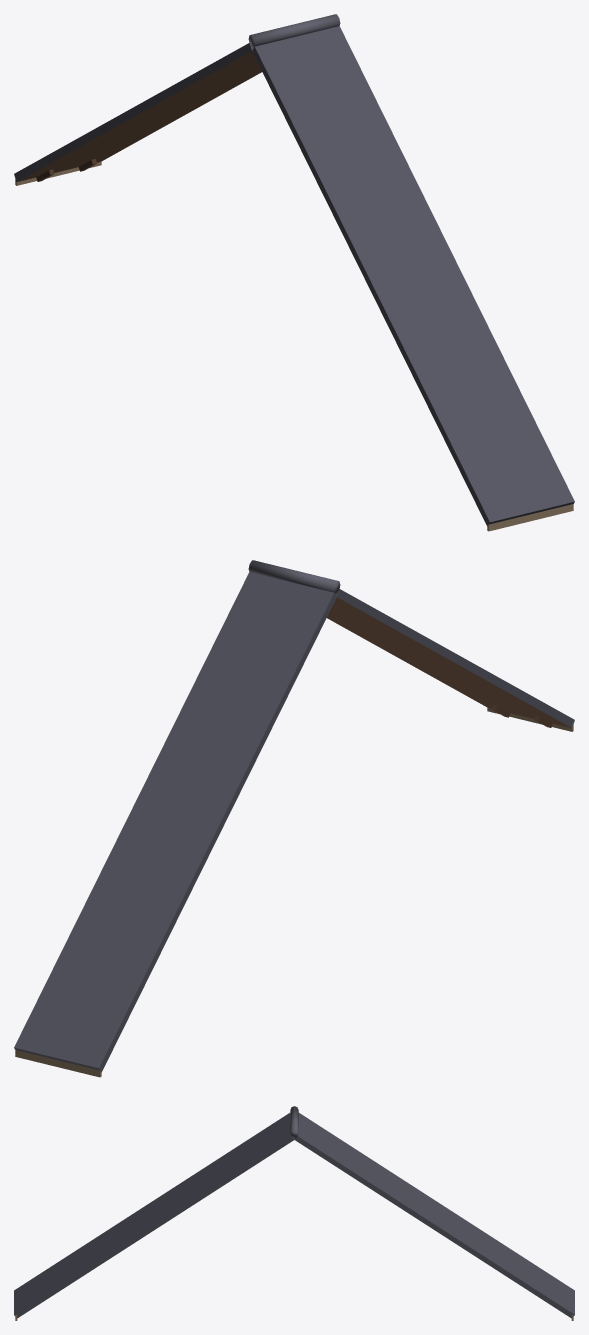
Rendered from kit_clapboard_slate_w9.glb.
3 views of the same model, one above another, from view 1: azimuth 30°, elevation 25°; view 2: azimuth 150°, elevation 25°; view 3: azimuth 270°, elevation 25° (orthographic). The views are drawn at different scales.
Parts seen in each view (by area): view 1: kit_clapboard_slate_w9; view 2: kit_clapboard_slate_w9; view 3: kit_clapboard_slate_w9.
Part boxes in pixels (x1,y1,x2,y2): kit_clapboard_slate_w9: [14, 14, 574, 531]; kit_clapboard_slate_w9: [14, 560, 574, 1077]; kit_clapboard_slate_w9: [14, 1106, 574, 1320].
Size of the model in its own units: 1 by 3.63 by 9.7.
